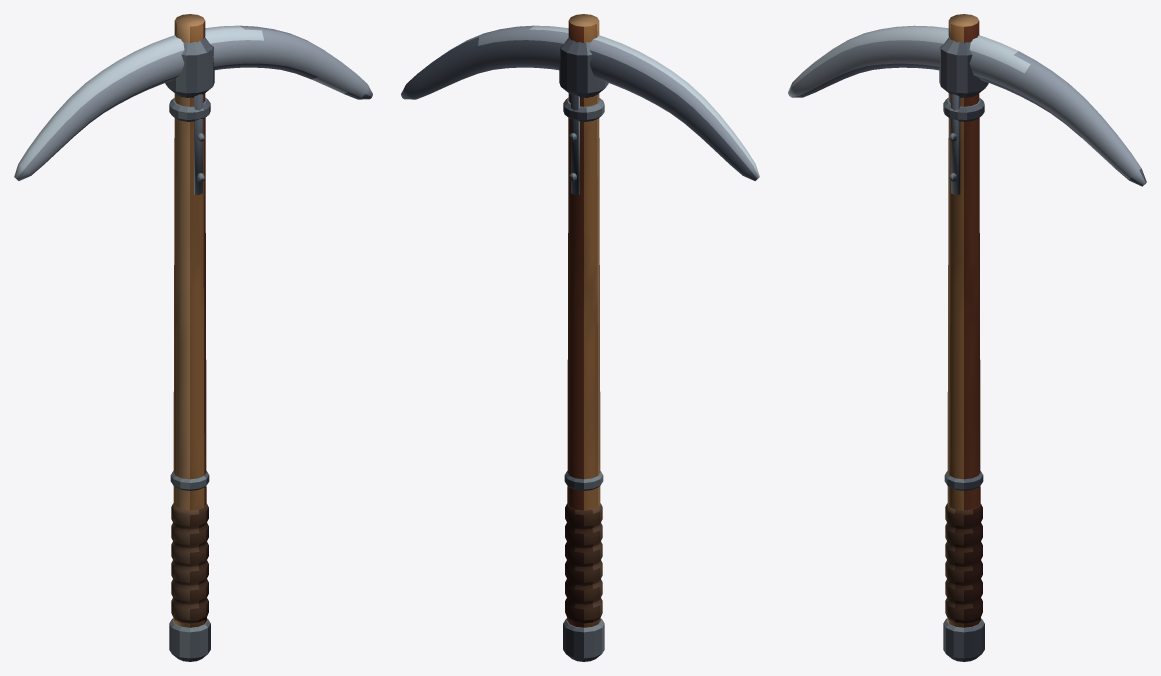
File: tl_pickaxe_iron.glb
3 renders of one model, left to right at view 1: azimuth 30°, elevation 25°; view 2: azimuth 150°, elevation 25°; view 3: azimuth 330°, elevation 25°, orthographic.
Parts seen in each view (by area): view 1: Weapon; view 2: Weapon; view 3: Weapon.
Part boxes in pixels (left/top/right/bottom): Weapon: left=14, top=14, right=372, bottom=661; Weapon: left=401, top=14, right=759, bottom=661; Weapon: left=788, top=14, right=1146, bottom=661.
Size of the model in its own units: 0.5154 by 0.875 by 0.0635.
